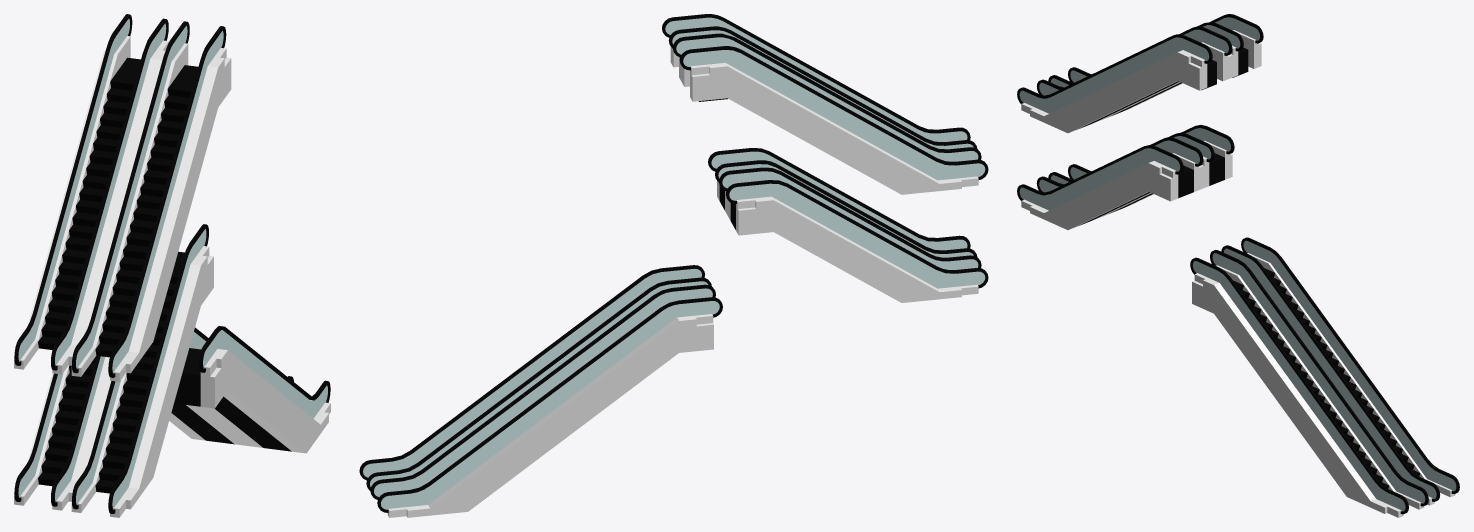
File: ESCALATORS.fbx
3 views of the same model, side by side, from view 1: azimuth 30°, elevation 25°; view 2: azimuth 150°, elevation 25°; view 3: azimuth 270°, elevation 25° (orthographic). The views are drawn at different scales.
Visible parts, largest first — view 1: BASE_2, STEPS, GLASS, HANDRAIL; view 2: GLASS, BASE_2, HANDRAIL; view 3: BASE_2, GLASS, HANDRAIL, STEPS.
Boxes of the visible parts, <box> form: BASE_2: <box>14,36,330,517</box>; STEPS: <box>38,57,291,493</box>; GLASS: <box>18,19,327,509</box>; HANDRAIL: <box>14,14,330,513</box>; GLASS: <box>363,17,985,509</box>; BASE_2: <box>387,46,978,517</box>; HANDRAIL: <box>359,14,988,512</box>; BASE_2: <box>1021,30,1455,517</box>; GLASS: <box>1019,17,1456,511</box>; HANDRAIL: <box>1017,14,1459,514</box>; STEPS: <box>1077,47,1420,488</box>.
Size of the model in its own units: 17.02 by 15.99 by 16.57.
